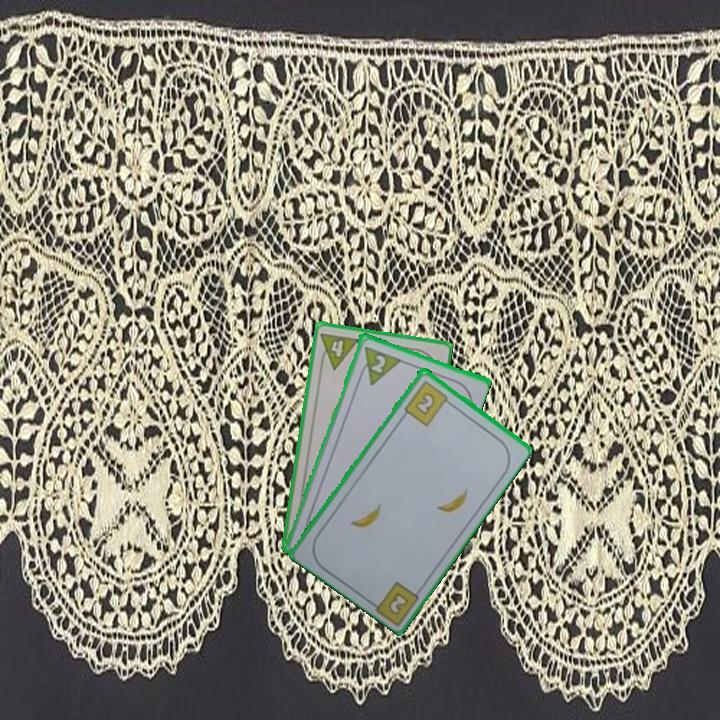2b: (401, 377, 454, 428), (386, 588, 411, 616)
2p: (368, 351, 389, 376)
4p: (316, 329, 362, 372)
